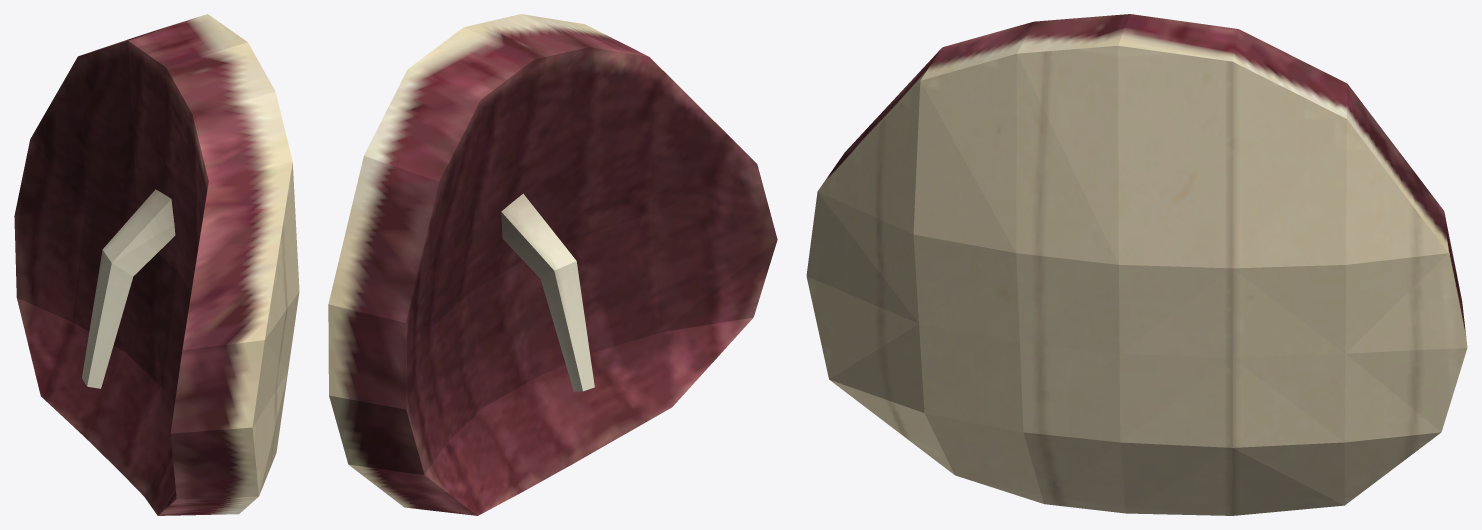
Rendered from Whale_hallowWeapon_shield.obj.
3 renders of one model, left to right at view 1: azimuth 30°, elevation 25°; view 2: azimuth 150°, elevation 25°; view 3: azimuth 270°, elevation 25°, orthographic. The views are drawn at different scales.
Parts seen in each view (by area): view 1: Whale_hallowWeapon_tri [shield]; view 2: Whale_hallowWeapon_tri [shield]; view 3: Whale_hallowWeapon_tri [shield].
Part boxes in pixels (left/top/right/bottom): Whale_hallowWeapon_tri [shield]: left=14, top=14, right=299, bottom=515; Whale_hallowWeapon_tri [shield]: left=328, top=14, right=777, bottom=515; Whale_hallowWeapon_tri [shield]: left=806, top=14, right=1467, bottom=515.
Bounding box in the file's own units: 0.538 × 0.9723 × 1.18.
Materials: 1 (1 with a texture image).
